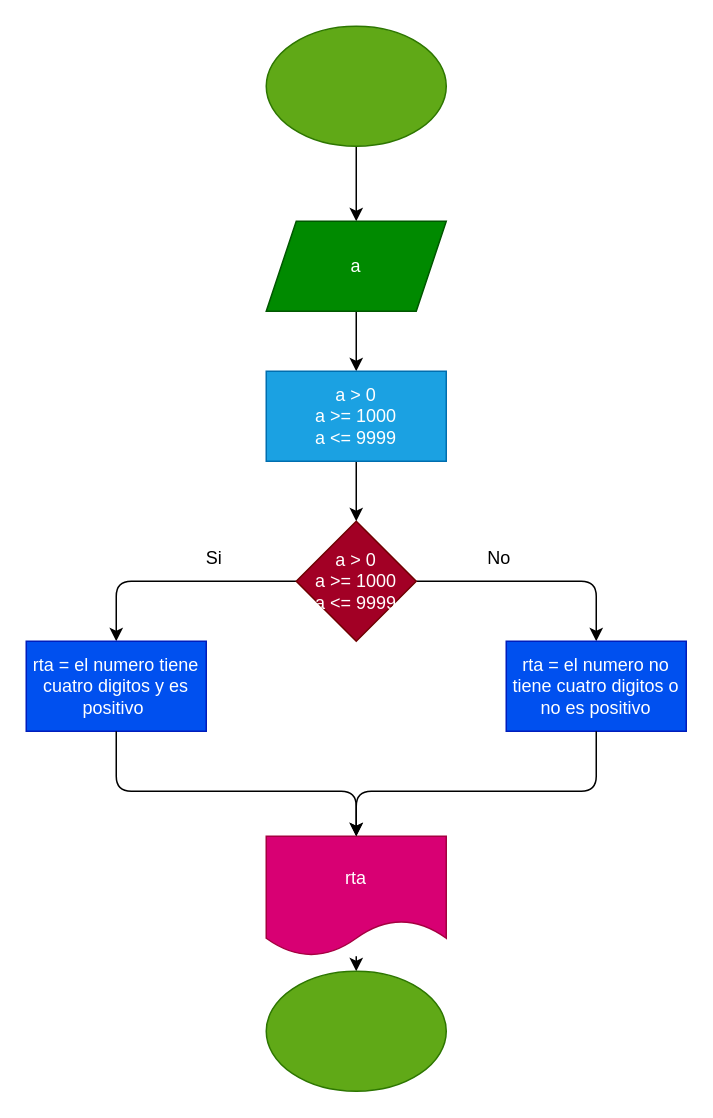
The diagram is 713 pixels wide and 1118 high, and some of its shapes have lost their labels. Here are the shapes that lost their labels. From the top down, the box of each, then its label:
(265, 25, 446, 146): Inicio
(265, 970, 446, 1091): Final
